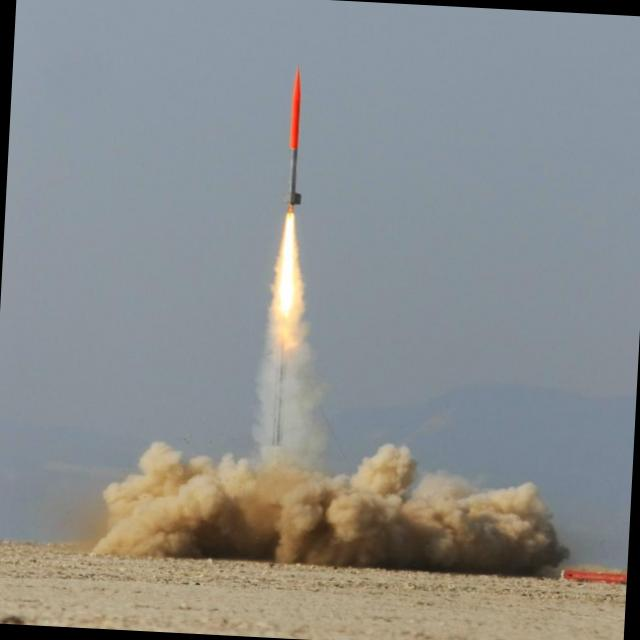rocket: (269, 63, 321, 339)
